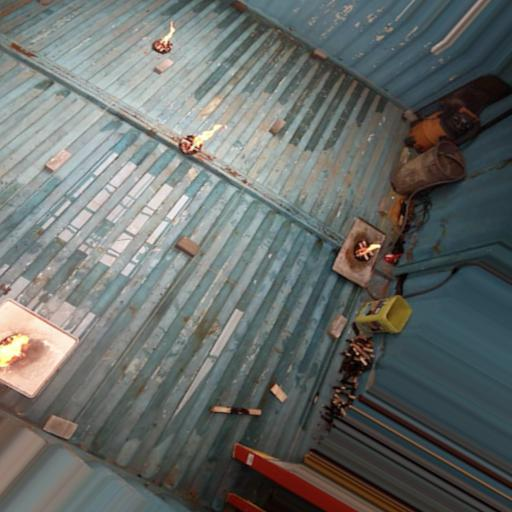Fire: (2, 333, 29, 364), (195, 122, 226, 146), (159, 22, 176, 45), (368, 242, 381, 252)
